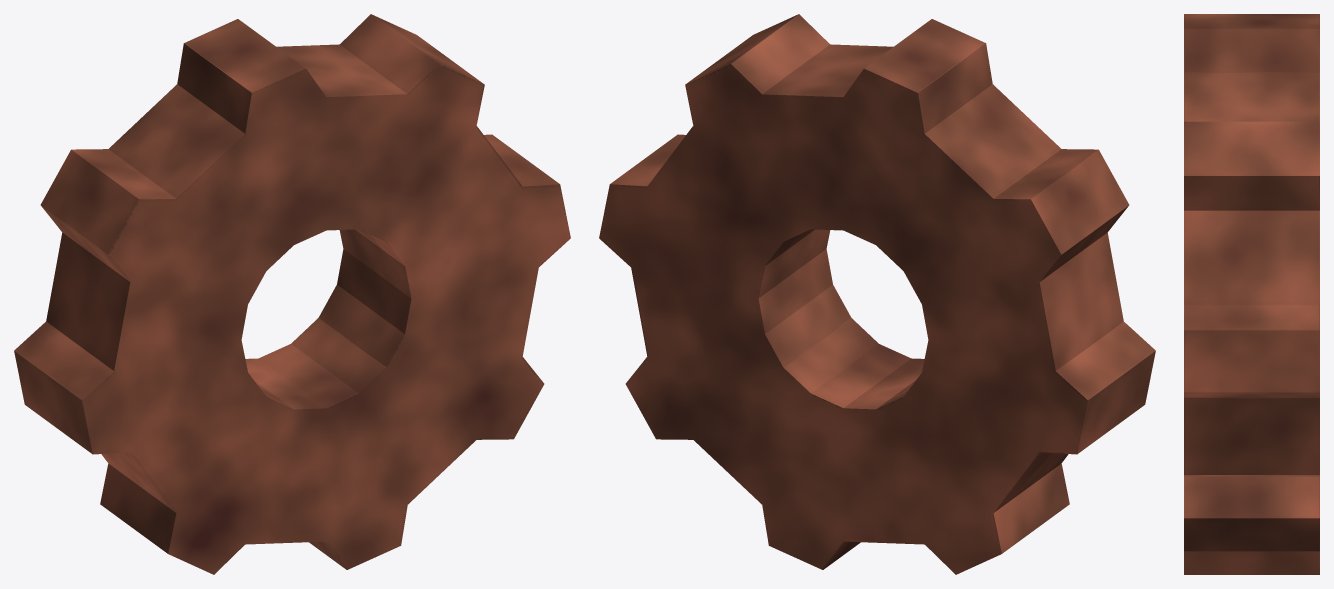
Rendered from Engranaje.fbx.
3 views of the same model, side by side, from view 1: azimuth 30°, elevation 25°; view 2: azimuth 150°, elevation 25°; view 3: azimuth 270°, elevation 25° (orthographic).
Parts seen in each view (by area): view 1: Circle; view 2: Circle; view 3: Circle.
Part boxes in pixels (x1,y1,x2,y2): Circle: (14,14,570,574); Circle: (599,14,1155,574); Circle: (1184,14,1319,574).
Bounding box in the file's own units: 230 × 230 × 55.5.
